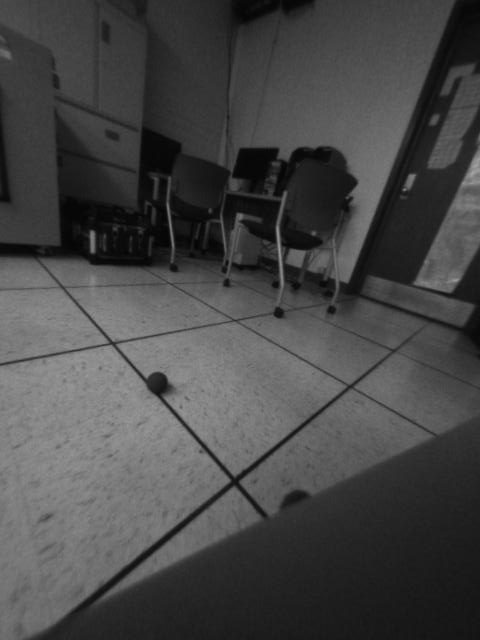dogtoy: (140, 366, 179, 398)
